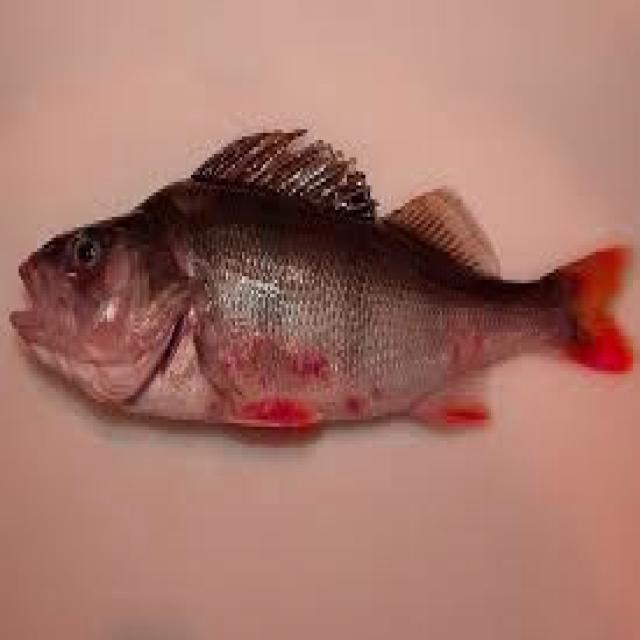EUS Disease: (8, 131, 640, 438), (150, 267, 504, 443)
